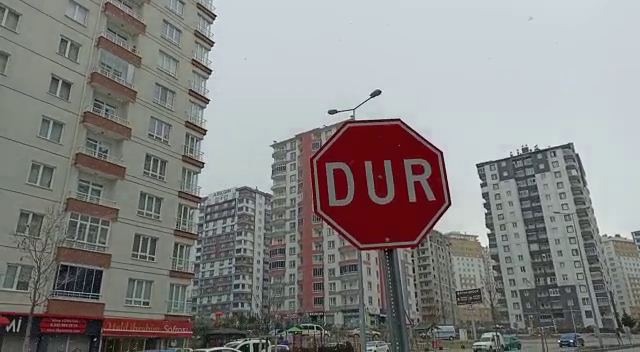stop: (305, 114, 455, 254)
